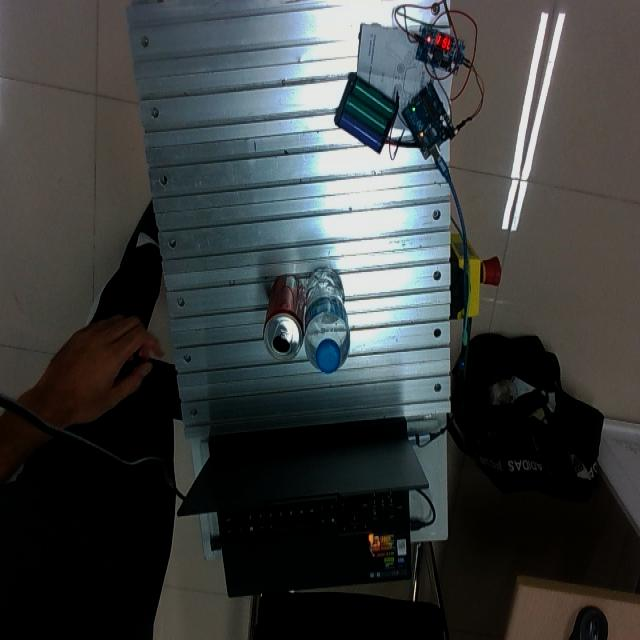coca: (263, 275, 307, 364)
lavie: (304, 266, 350, 374)
